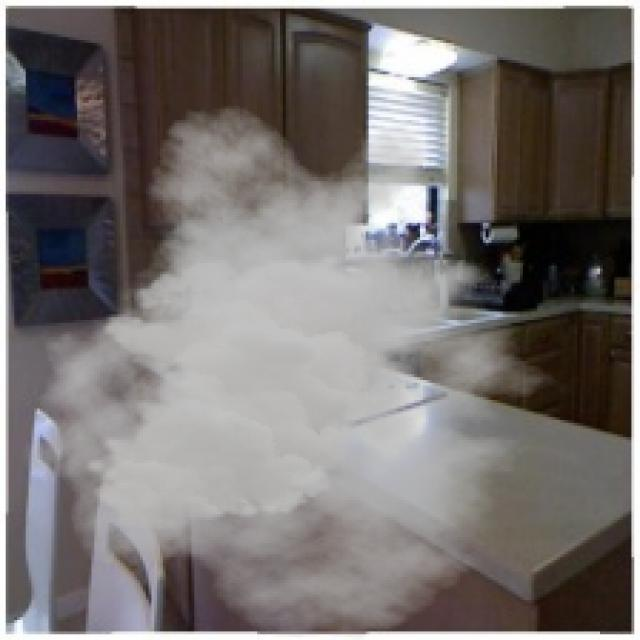smoke: (23, 103, 583, 637)
